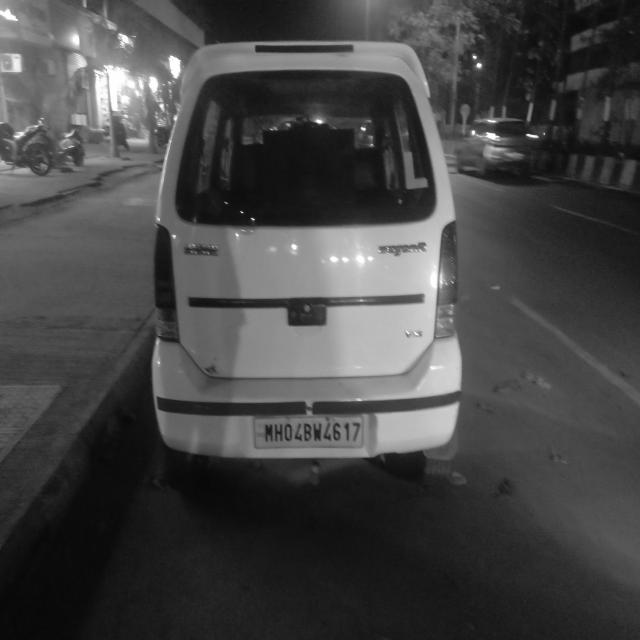car: (148, 35, 469, 490)
license-plate: (255, 414, 368, 448)
